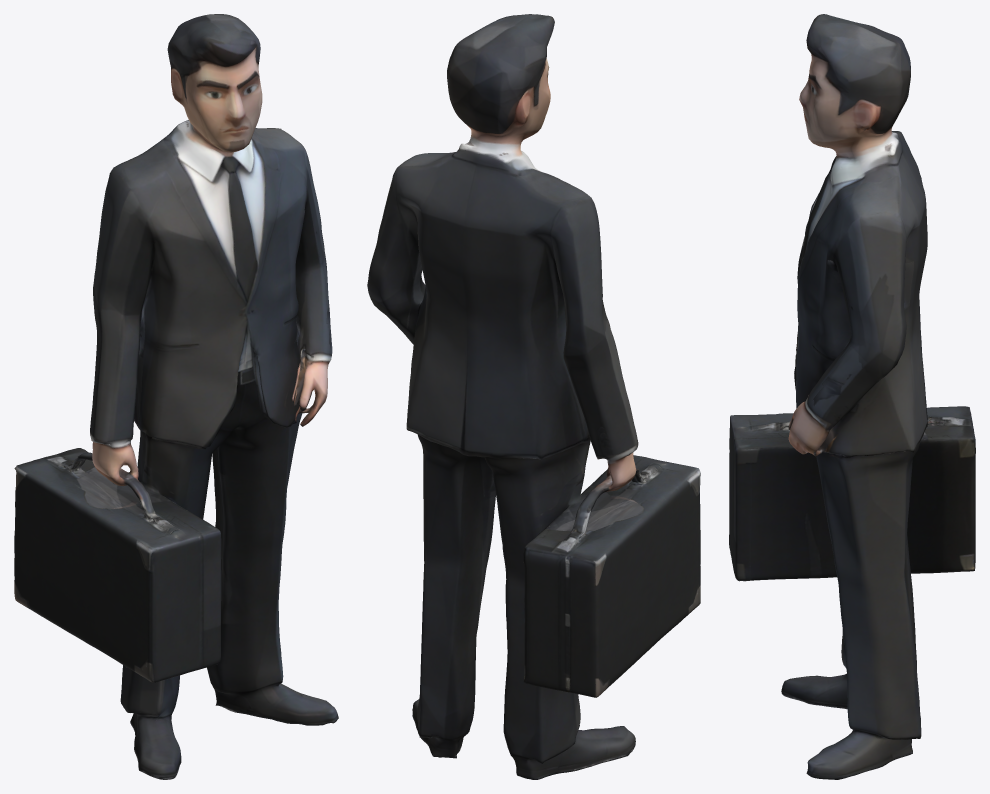
The model's file is manager.glb.
3 renders of one model, left to right at view 1: azimuth 30°, elevation 25°; view 2: azimuth 150°, elevation 25°; view 3: azimuth 270°, elevation 25°, orthographic. The views are drawn at different scales.
Visible parts, largest first — view 1: Mesh1_Mesh1.006; view 2: Mesh1_Mesh1.006; view 3: Mesh1_Mesh1.006.
Part boxes in pixels (x1=…): Mesh1_Mesh1.006: x1=14, y1=14, x2=338, y2=779; Mesh1_Mesh1.006: x1=367, y1=14, x2=700, y2=779; Mesh1_Mesh1.006: x1=729, y1=14, x2=975, y2=779.
Size of the model in its own units: 0.7725 by 1.99 by 0.6298.
Materials: 1 (1 with a texture image).
